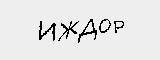Д: (79, 17, 96, 44)
Ж: (59, 17, 78, 42)
И: (36, 15, 58, 44)
О: (96, 17, 111, 36)
Р: (112, 17, 127, 37)
